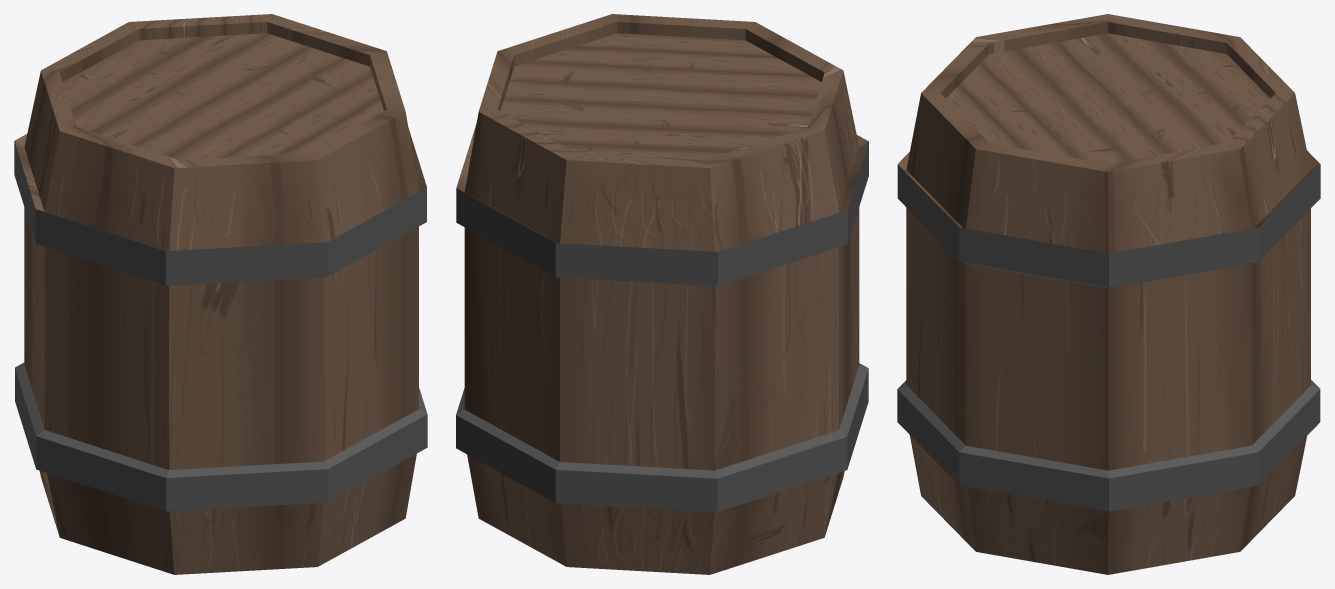
The model's file is bo4kka.fbx.
3 views of the same model, side by side, from view 1: azimuth 30°, elevation 25°; view 2: azimuth 150°, elevation 25°; view 3: azimuth 270°, elevation 25° (orthographic).
Parts seen in each view (by area): view 1: Cylinder; view 2: Cylinder; view 3: Cylinder.
Boxes of the visible parts, bbox=[...] form: Cylinder: bbox=[14, 14, 427, 574]; Cylinder: bbox=[456, 14, 868, 574]; Cylinder: bbox=[897, 14, 1320, 574].
Bounding box in the file's own units: 211 × 222 × 211.
2 materials, 1 textured.
